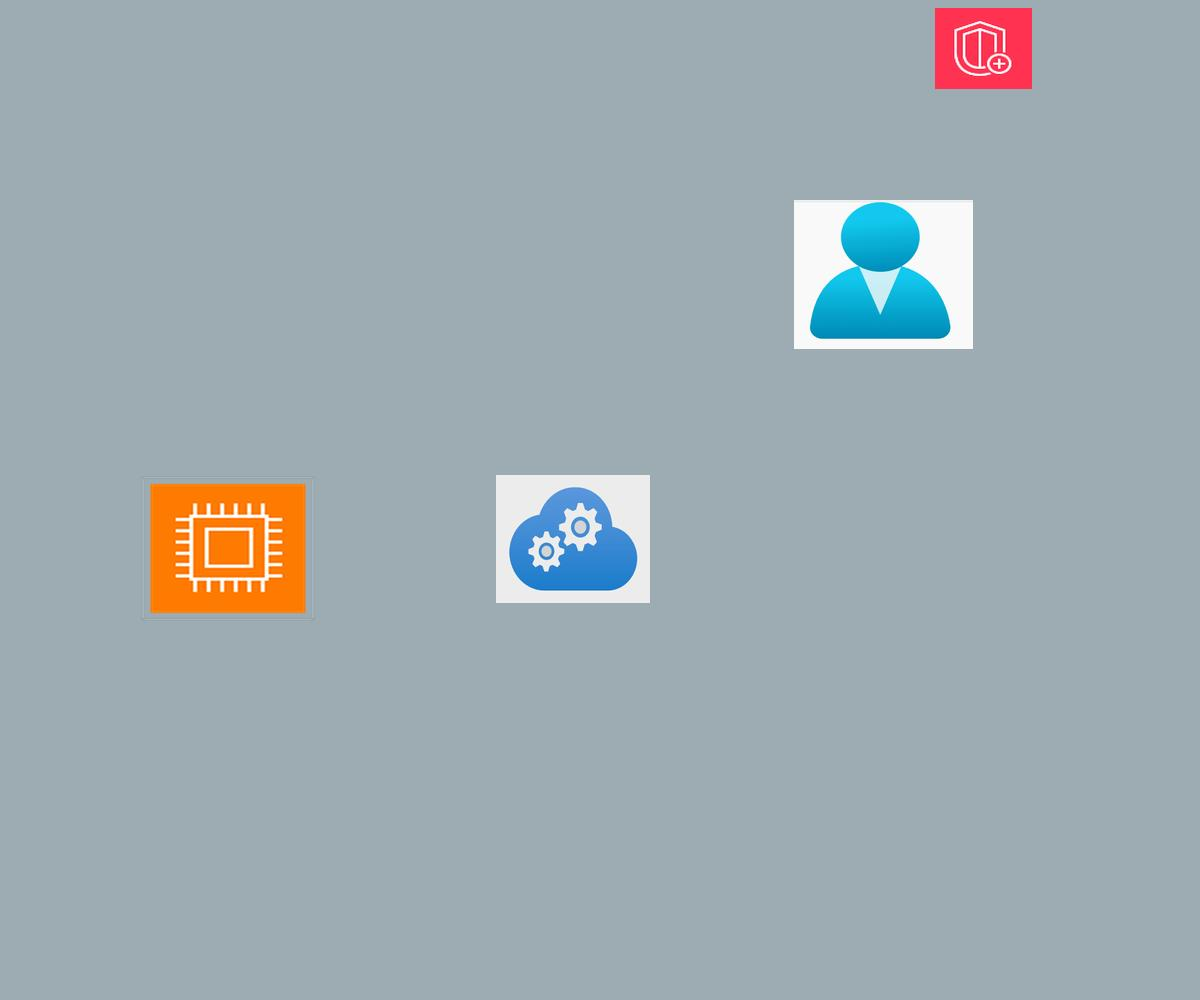AWS-Category_Compute: (141, 476, 315, 621)
AWS-Shield: (935, 8, 1032, 89)
Azure_cloud_services: (496, 475, 650, 603)
Azure_users: (794, 200, 973, 349)
